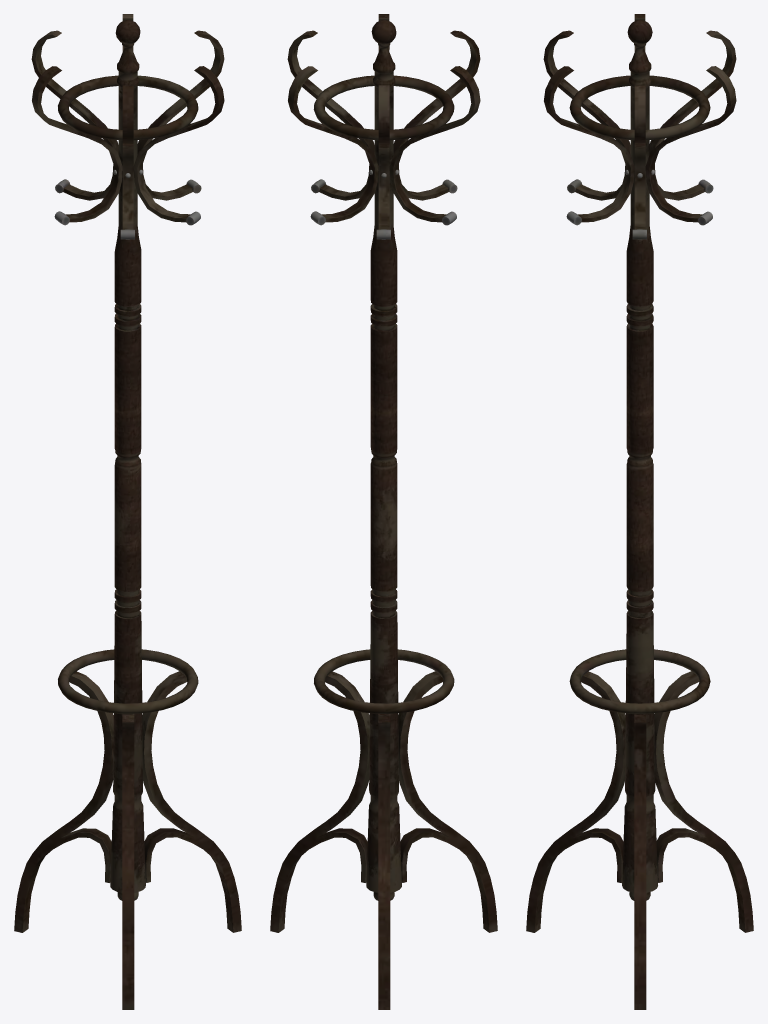
The model's file is coat_rack.glb.
3 views of the same model, side by side, from view 1: azimuth 30°, elevation 25°; view 2: azimuth 150°, elevation 25°; view 3: azimuth 270°, elevation 25° (orthographic).
Parts seen in each view (by area): view 1: Beam, Legs, Hangers; view 2: Beam, Legs, Hangers; view 3: Beam, Legs, Hangers.
Boxes of the visible parts, bbox=[...] form: Beam: bbox=[58, 20, 198, 900]; Legs: bbox=[14, 671, 241, 1009]; Hangers: bbox=[31, 14, 224, 239]; Beam: bbox=[313, 20, 454, 900]; Legs: bbox=[270, 671, 497, 1009]; Hangers: bbox=[287, 14, 480, 239]; Beam: bbox=[569, 20, 710, 900]; Legs: bbox=[526, 671, 753, 1009]; Hangers: bbox=[543, 14, 736, 239].
Size of the model in its own units: 40.87 by 179 by 39.41.
Materials: 1 (1 with a texture image).
